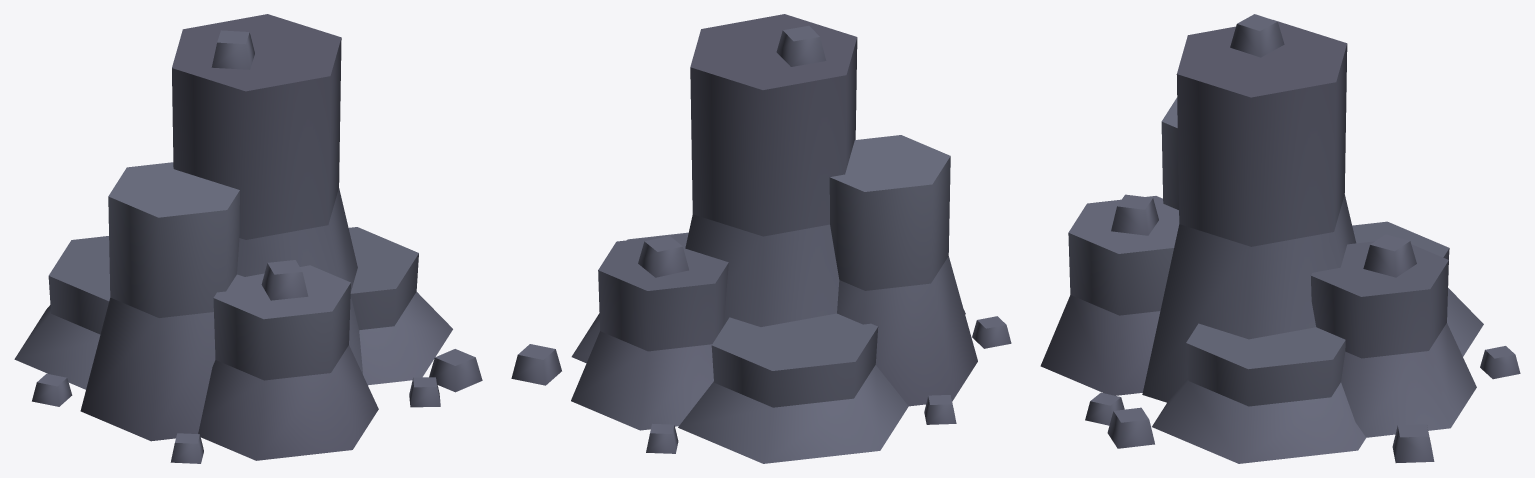
Rendered from rocks-b.glb.
3 renders of one model, left to right at view 1: azimuth 30°, elevation 25°; view 2: azimuth 150°, elevation 25°; view 3: azimuth 270°, elevation 25°, orthographic. The views are drawn at different scales.
Parts seen in each view (by area): view 1: rocks-b; view 2: rocks-b; view 3: rocks-b.
Part boxes in pixels (bbox=[...]): rocks-b: bbox=[14, 14, 482, 463]; rocks-b: bbox=[511, 14, 1011, 463]; rocks-b: bbox=[1040, 14, 1520, 463].
Bounding box in the file's own units: 4.44 × 3.65 × 4.7.
